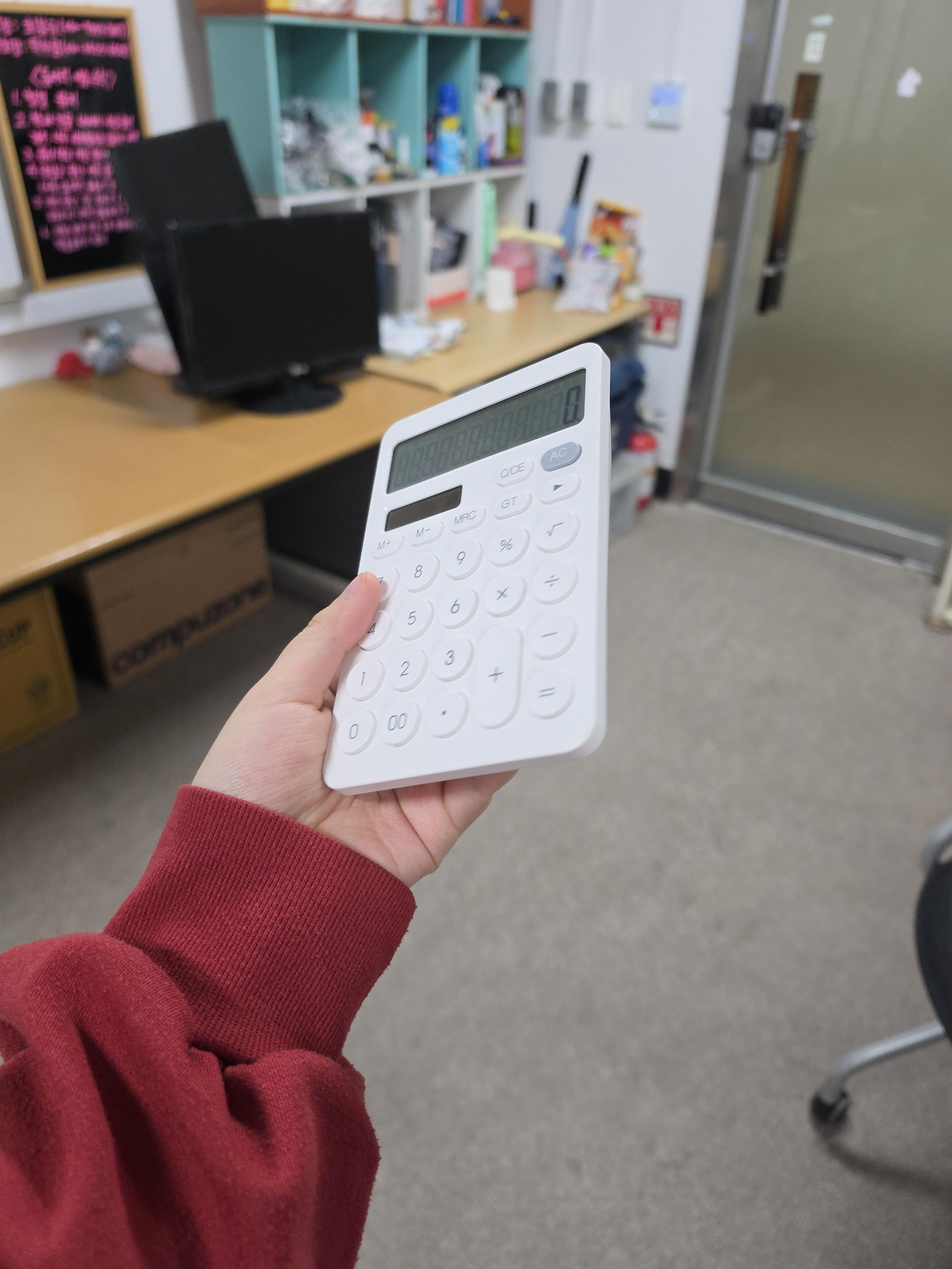calculator: (322, 342, 611, 795)
